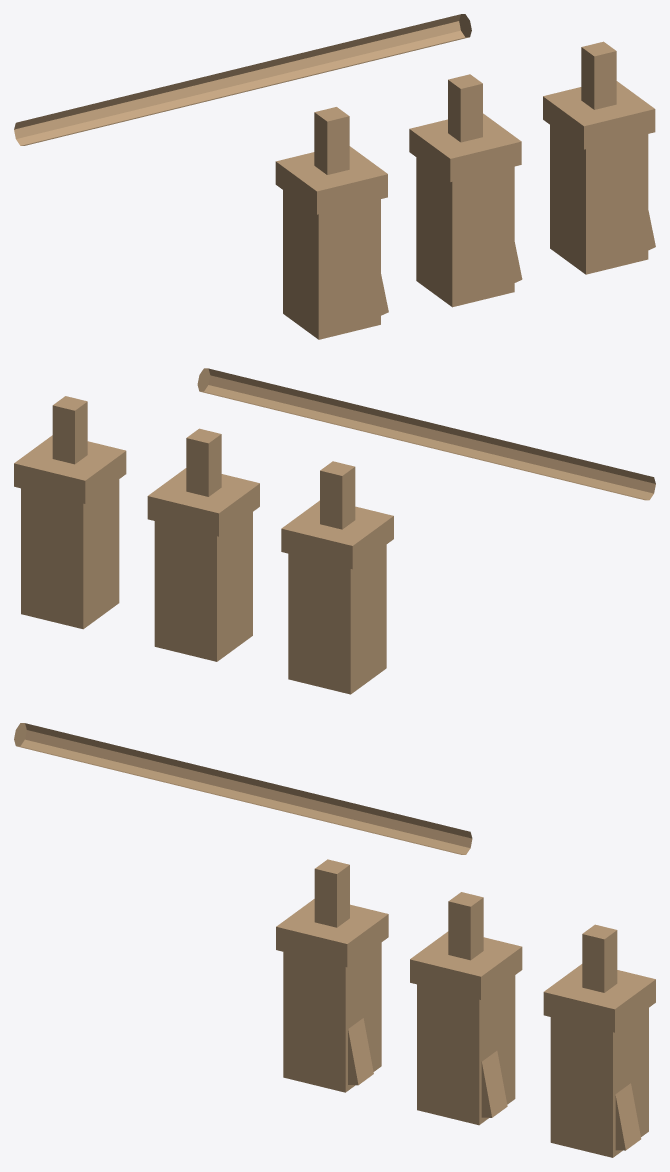
File: HerbBundle.gltf
3 views of the same model, one above another, from view 1: azimuth 30°, elevation 25°; view 2: azimuth 150°, elevation 25°; view 3: azimuth 330°, elevation 25° (orthographic).
Parts seen in each view (by area): view 1: HerbBundle; view 2: HerbBundle; view 3: HerbBundle.
Part boxes in pixels (left/top/right/bottom): HerbBundle: left=14, top=14, right=655, bottom=339; HerbBundle: left=14, top=368, right=655, bottom=694; HerbBundle: left=14, top=723, right=655, bottom=1157.
Size of the model in its own units: 1.39 by 0.585 by 0.16.
